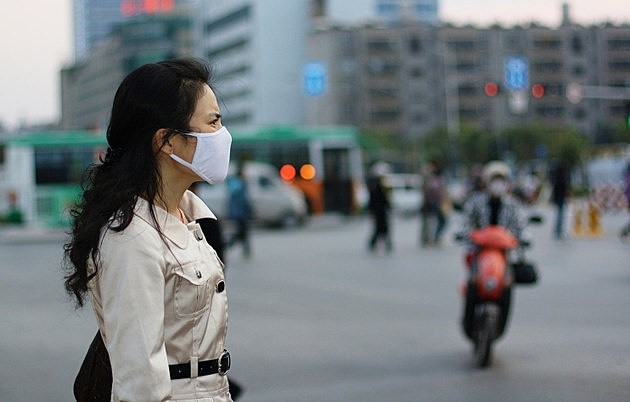face_with_mask: (118, 66, 232, 187)
